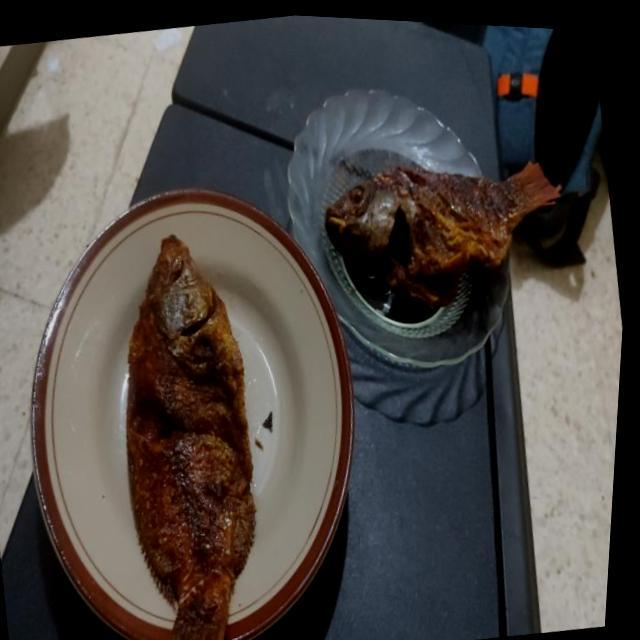ikan_mujair: (126, 235, 256, 640), (325, 162, 560, 308)
